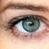eye: (22, 19, 40, 32)
